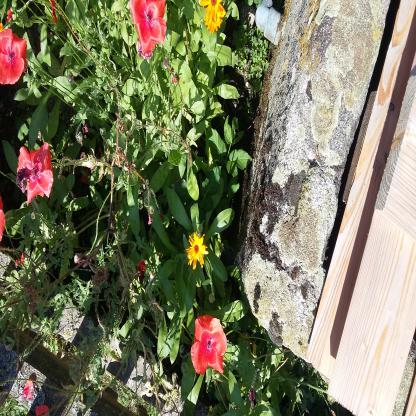marigold: (206, 146, 230, 186), (192, 382, 212, 410), (189, 397, 216, 416)
